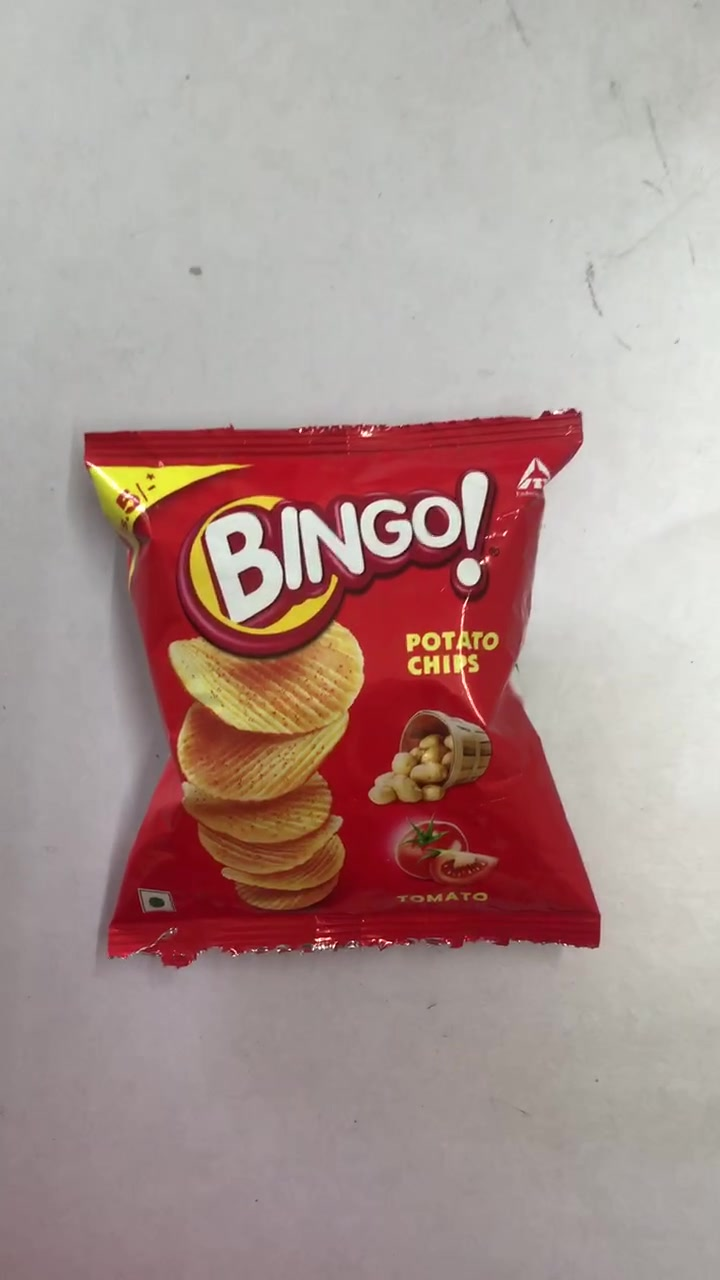Bingo: (88, 427, 605, 957)
